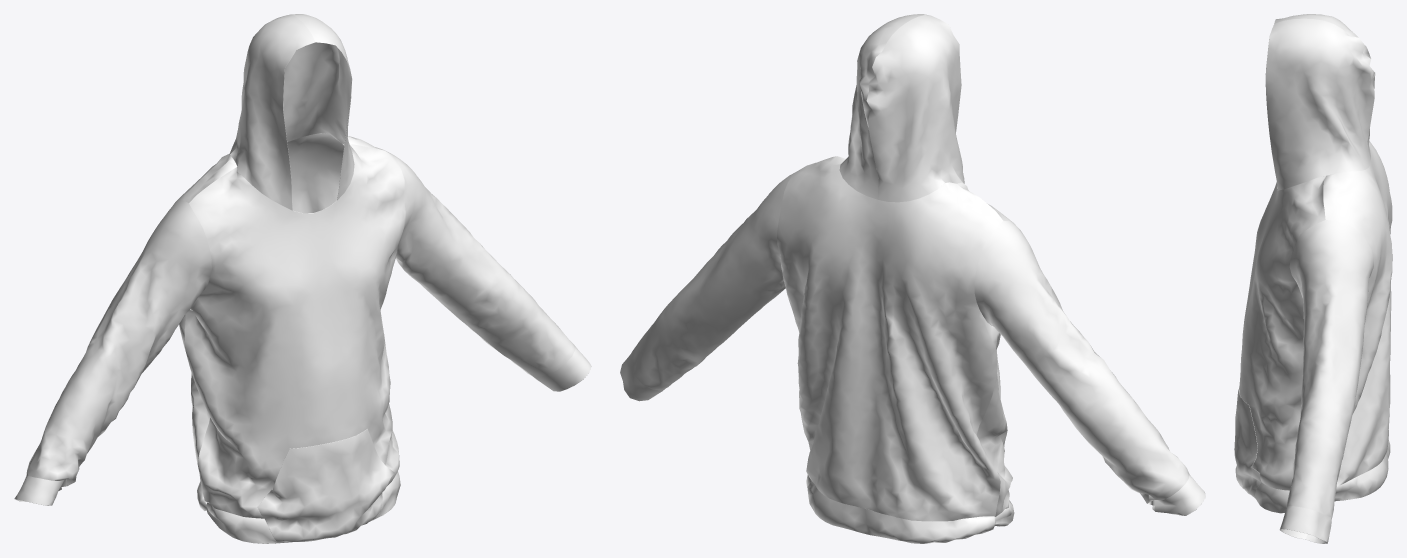
Rendered from 1752064500908-ojm1us6c4sf.glb.
3 renders of one model, left to right at view 1: azimuth 30°, elevation 25°; view 2: azimuth 150°, elevation 25°; view 3: azimuth 270°, elevation 25°, orthographic. The views are drawn at different scales.
Visible parts, largest first — view 1: Cloth; view 2: Cloth; view 3: Cloth.
Part boxes in pixels (left/top/right/bottom): Cloth: left=14, top=14, right=591, bottom=543; Cloth: left=620, top=14, right=1205, bottom=543; Cloth: left=1234, top=14, right=1392, bottom=543.
Size of the model in its own units: 1.16 by 0.9558 by 0.2957.
Materials: 1 (1 with a texture image).
